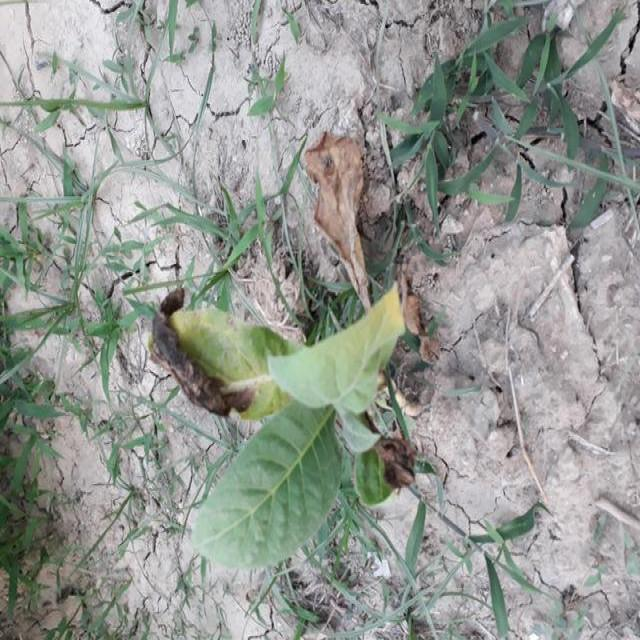crop: (156, 287, 410, 559)
